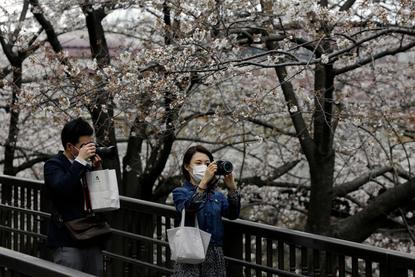Person: (173, 144, 241, 277), (44, 117, 104, 266)
